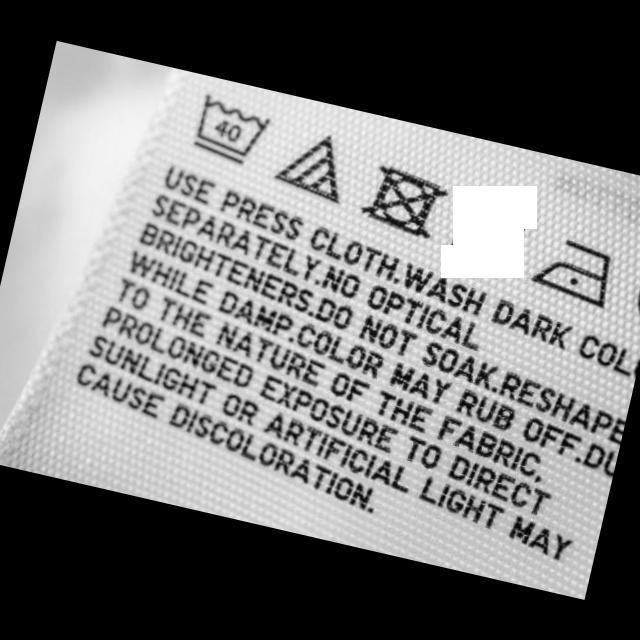40C: (185, 86, 276, 174)
DN_tumble_dry: (354, 160, 452, 244)
iron_low: (524, 230, 622, 314)
non_chlorine_bleach: (266, 120, 360, 208)
